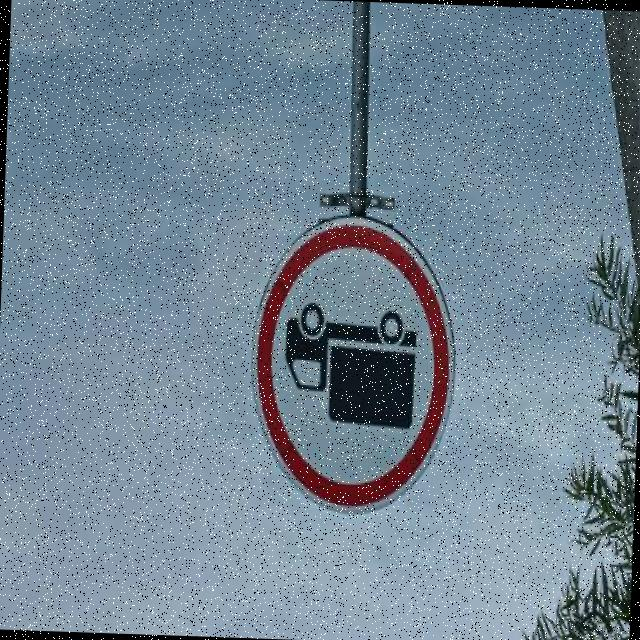do_not_enter: (235, 208, 482, 530)
